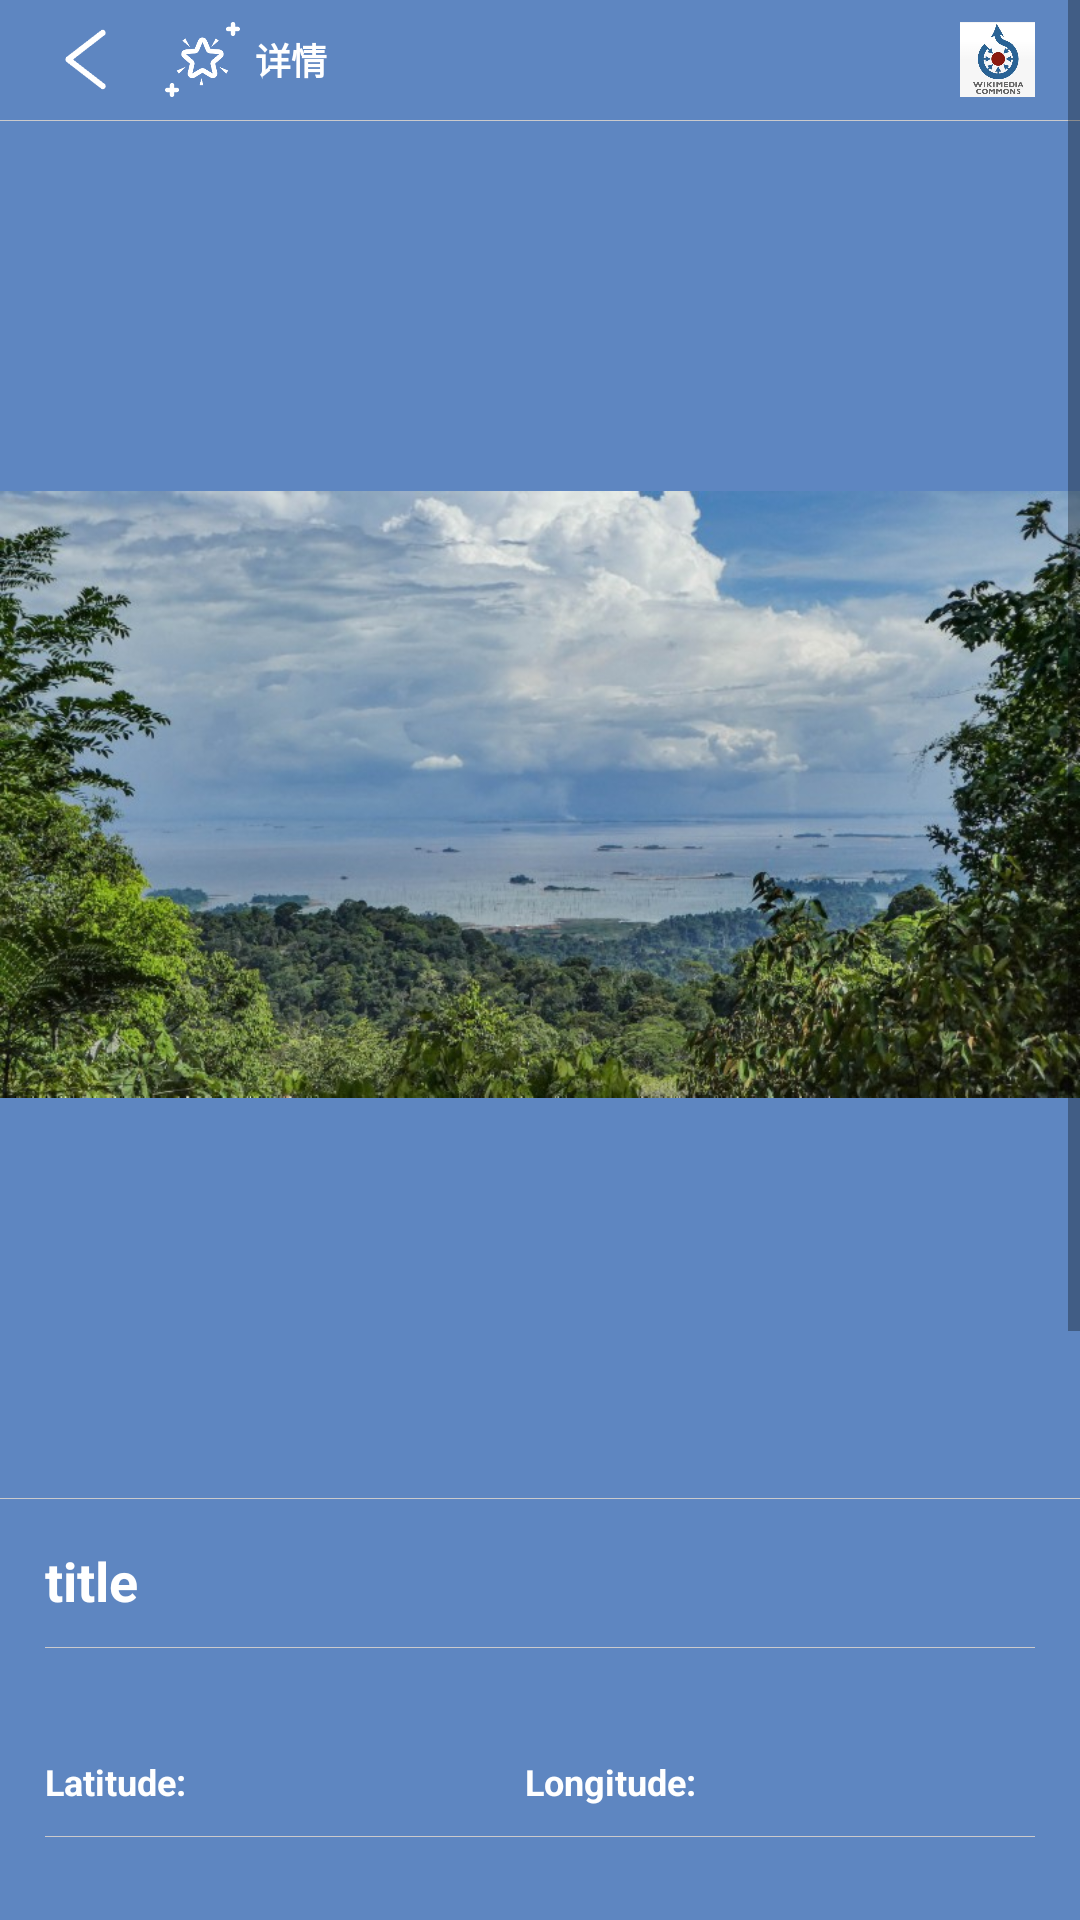

Where icons sit on this 1080w x 1920h app screen, as bbox(x1, y1, x2, y2):
back: bbox(65, 30, 106, 89)
